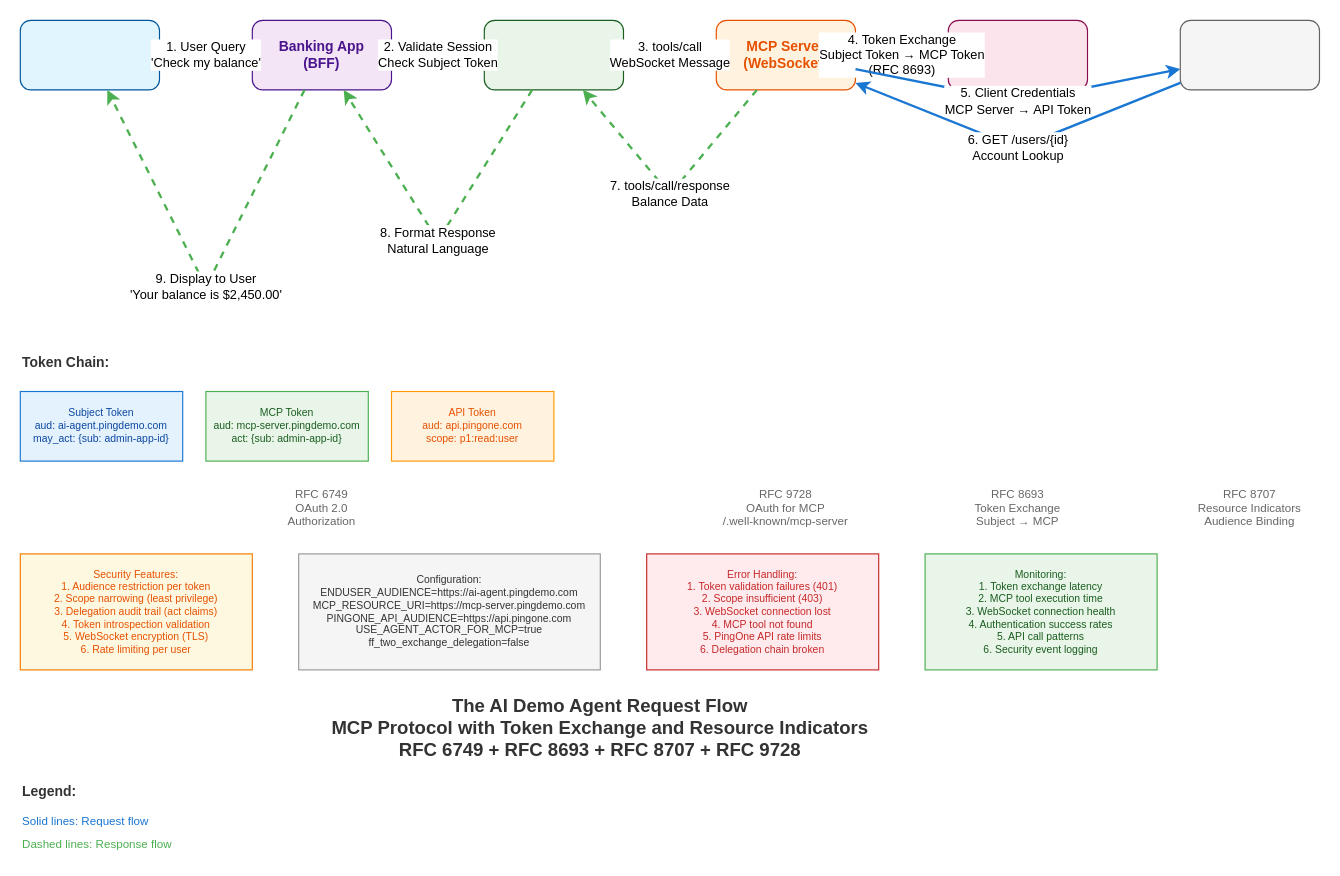
The diagram is 1340 pixels wide and 876 high, and some of its shapes have lost their labels. The shapes that lost their labels are listed below. From the top down, each one's centre as x and y in pixels, then its label:
At pixel 89 54: "User".
At pixel 553 54: "AI Agent (MCP Client)".
At pixel 1017 54: "PingOne Auth Server (RFC 8693)".
At pixel 1249 54: "PingOne Management API".
